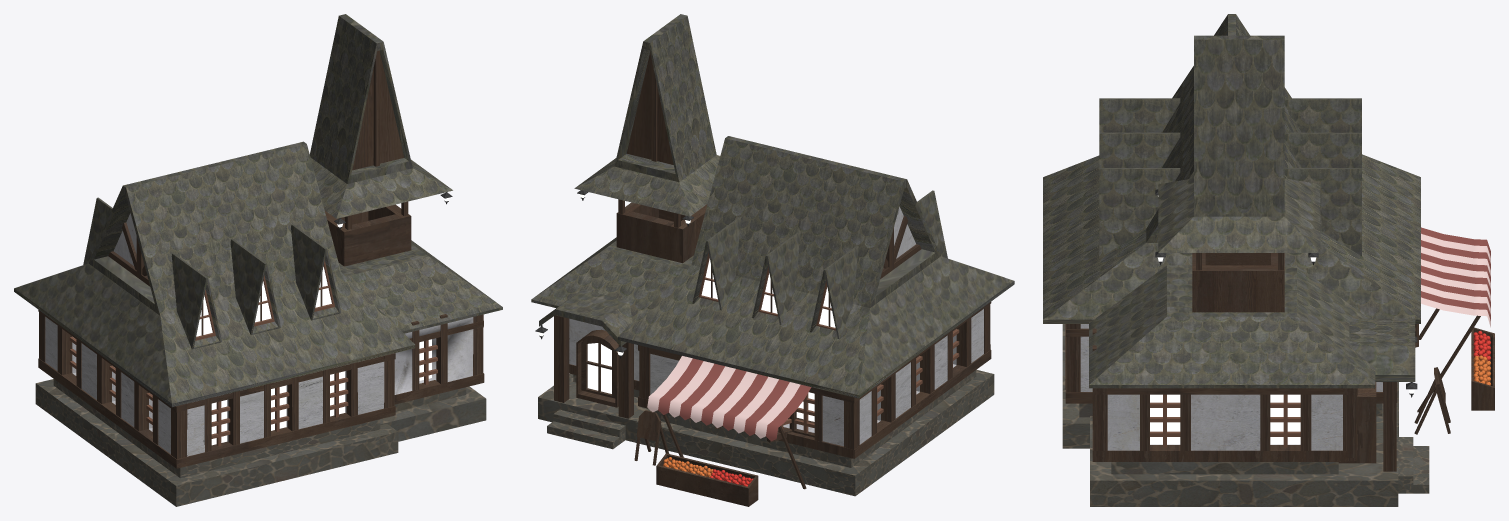
File: farm shop.fbx
3 views of the same model, side by side, from view 1: azimuth 30°, elevation 25°; view 2: azimuth 150°, elevation 25°; view 3: azimuth 270°, elevation 25° (orthographic). The views are drawn at different scales.
Parts seen in each view (by area): view 1: Cube.206, Cube.195, Cube.202, Cube.691, Cube.694, Cube.701, Cube.015, Cube.016, Cube.017, Cube.712, Cube.711, Cube.229 (+12 smaller); view 2: Cube.206, Cube.195, Cube.202, Plane.022, Cube.691, Cube.701, Cube.694, Cube.728, Cube.248, Cube.203, Cube.001, Cube.002 (+14 smaller); view 3: Cube.206, Cube.691, Cube.202, Cube.694, Plane.022, Cube.701, Cube.015, Cube.203, Cube.199, Cube.718, Cube.016, Cube.017 (+15 smaller).
Part boxes in pixels (x1,y1,x2,y2): Cube.206: [14, 141, 415, 407]; Cube.195: [35, 317, 398, 506]; Cube.202: [310, 14, 452, 218]; Cube.691: [338, 240, 502, 333]; Cube.694: [380, 317, 486, 441]; Cube.701: [325, 204, 411, 266]; Cube.015: [291, 224, 341, 320]; Cube.016: [230, 239, 280, 334]; Cube.017: [171, 253, 221, 349]; Cube.712: [177, 406, 395, 468]; Cube.711: [38, 358, 176, 468]; Cube.229: [187, 356, 384, 409]; Cube.206: [618, 136, 1014, 398]; Cube.195: [635, 309, 994, 496]; Cube.202: [574, 14, 720, 216]; Plane.022: [647, 356, 811, 441]; Cube.691: [531, 237, 693, 321]; Cube.701: [616, 202, 707, 263]; Cube.694: [538, 318, 683, 442]; Cube.728: [576, 329, 618, 407]; Cube.248: [656, 453, 758, 506]; Cube.203: [692, 217, 741, 310]; Cube.001: [752, 231, 800, 324]; Cube.002: [810, 245, 858, 338]; Cube.206: [1043, 14, 1420, 323]; Cube.691: [1089, 265, 1375, 388]; Cube.202: [1158, 35, 1320, 252]; Cube.694: [1090, 394, 1398, 506]; Plane.022: [1421, 227, 1490, 327]; Cube.701: [1192, 253, 1284, 312]; Cube.015: [1099, 168, 1180, 257]; Cube.203: [1284, 168, 1361, 256]; Cube.199: [1349, 318, 1415, 381]; Cube.718: [1106, 445, 1347, 461]; Cube.016: [1099, 132, 1180, 167]; Cube.017: [1099, 98, 1180, 132].
Bounding box in the file's own units: 1146 × 1131 × 1070.
